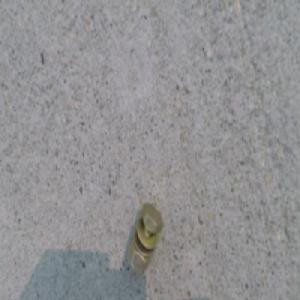BoltNutSet: (128, 203, 161, 275)
